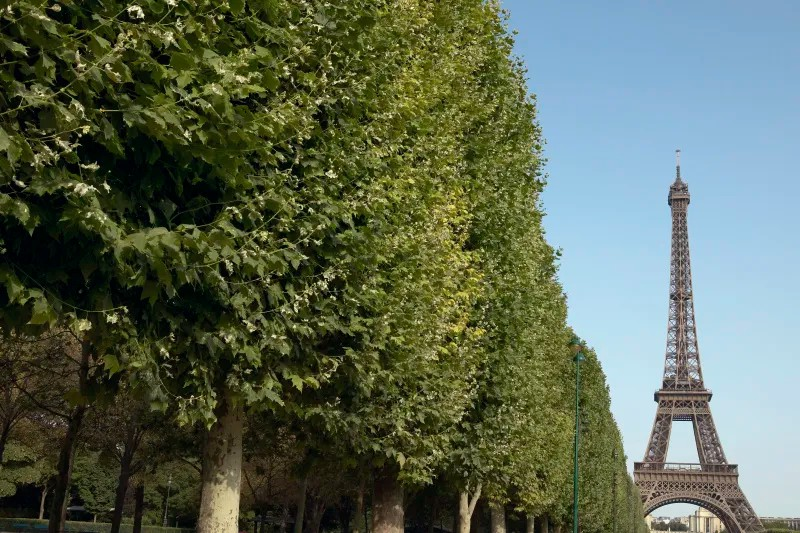Eiffel: (633, 150, 766, 533)
